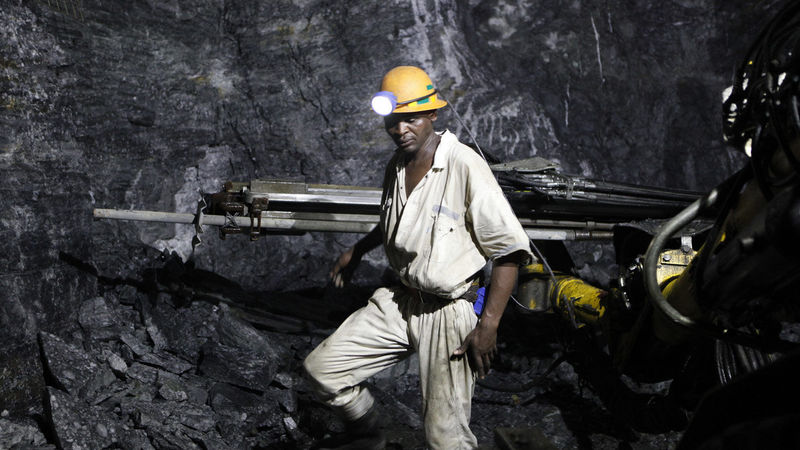epi: (314, 58, 510, 450)
